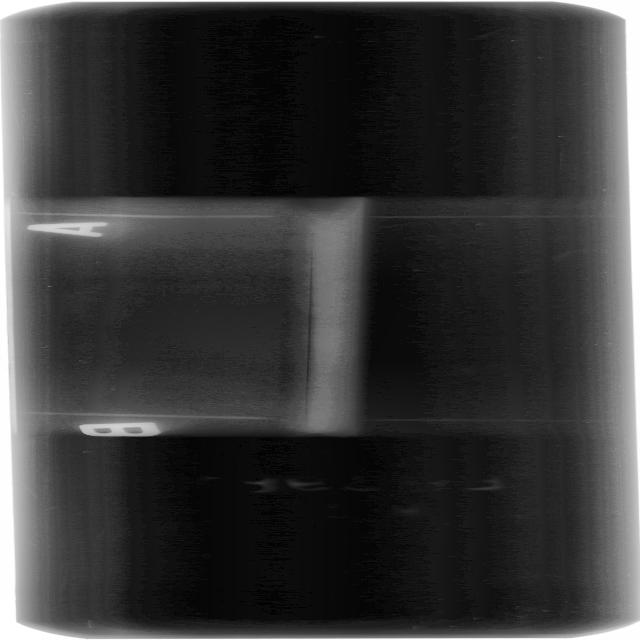LOP: (312, 266, 320, 389)
